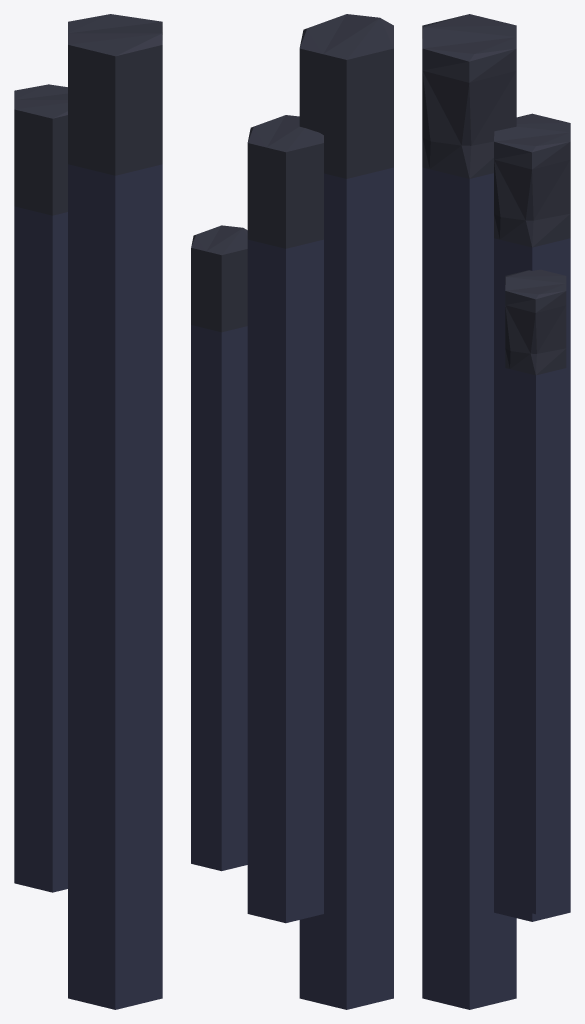
File: SaltPillars02.FBX
3 views of the same model, side by side, from view 1: azimuth 90°, elevation 25°; view 2: azimuth 150°, elevation 25°; view 3: azimuth 270°, elevation 25° (orthographic).
Visible parts, largest first — view 1: Object009; view 2: Object009; view 3: Object009.
Part boxes in pixels (<box>): Object009: <box>14,14,162,1009</box>; Object009: <box>191,14,393,1009</box>; Object009: <box>422,14,570,1009</box>.
Bounding box in the file's own units: 83.13 × 62.81 × 447.
